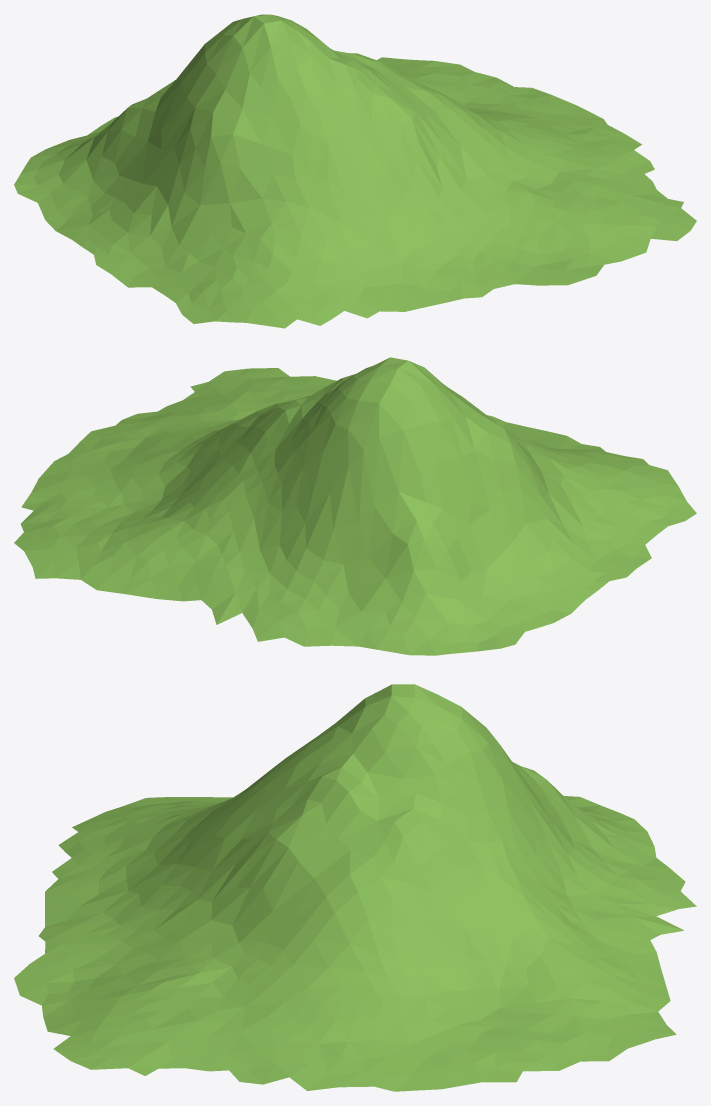
The model's file is MT_Mountain_L_a_21_LOD.fbx.
The picture shows the model from 3 angles, top to bottom: view 1: azimuth 30°, elevation 25°; view 2: azimuth 150°, elevation 25°; view 3: azimuth 270°, elevation 25°; orthographic projection. The views are drawn at different scales.
Parts seen in each view (by area): view 1: MT_Mountain_L_a_21_LOD0; view 2: MT_Mountain_L_a_21_LOD0; view 3: MT_Mountain_L_a_21_LOD0.
Boxes of the visible parts, left/top/right/bottom form: MT_Mountain_L_a_21_LOD0: left=14, top=14, right=696, bottom=328; MT_Mountain_L_a_21_LOD0: left=14, top=357, right=696, bottom=655; MT_Mountain_L_a_21_LOD0: left=14, top=684, right=696, bottom=1091.
Size of what is drawn, in the model's own units: 8378 by 2745 by 7915.
